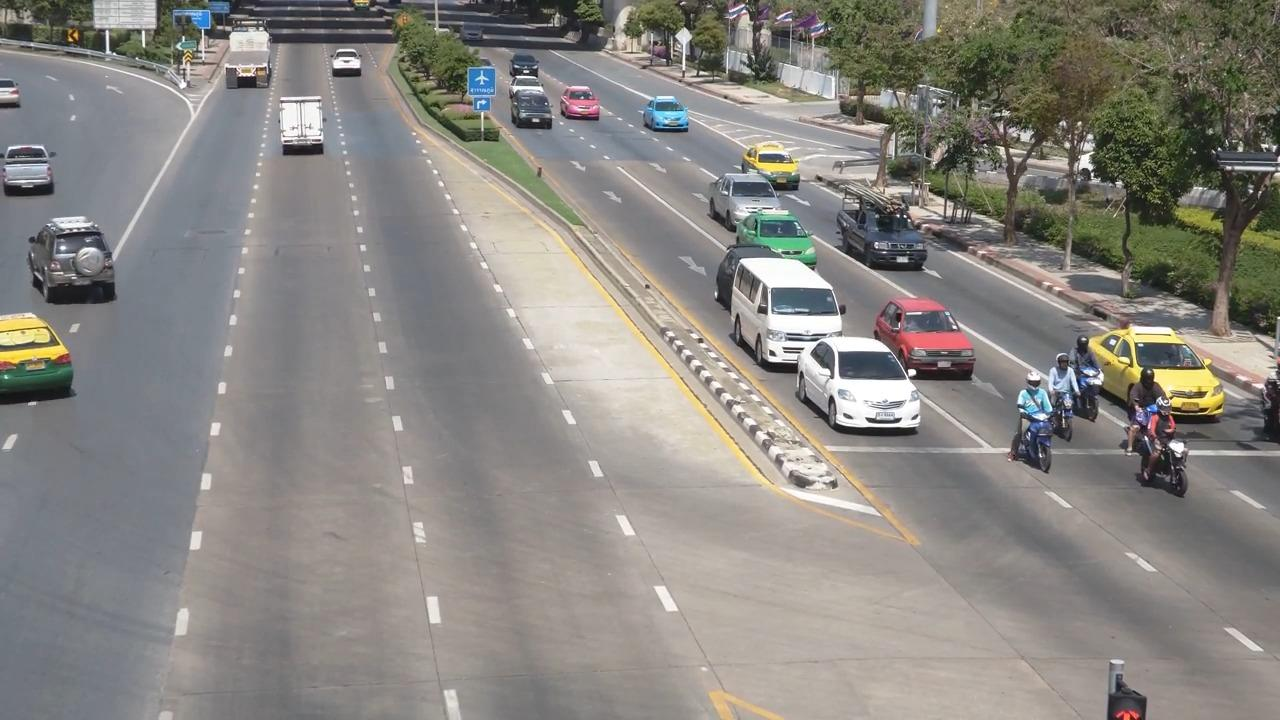CAR: (1083, 310, 1227, 425), (796, 332, 934, 439), (733, 252, 846, 372), (827, 181, 937, 285), (0, 303, 92, 426), (866, 274, 977, 373), (25, 214, 127, 306), (265, 84, 341, 168), (739, 208, 826, 269), (708, 163, 784, 230), (0, 139, 58, 205), (501, 87, 558, 144), (319, 44, 382, 95), (731, 139, 804, 183), (637, 91, 693, 140), (550, 80, 605, 125), (0, 73, 30, 117), (501, 43, 542, 75)
HGV_BUS: (214, 22, 285, 109)
MOTOR: (1127, 396, 1202, 498), (997, 367, 1059, 454), (1035, 345, 1081, 436), (1063, 333, 1110, 410)
